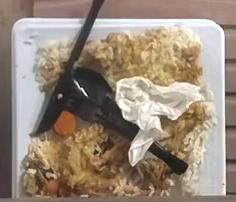carrots: (53, 111, 77, 136)
rice_mix: (22, 110, 130, 196), (79, 27, 200, 86), (150, 102, 216, 196)
